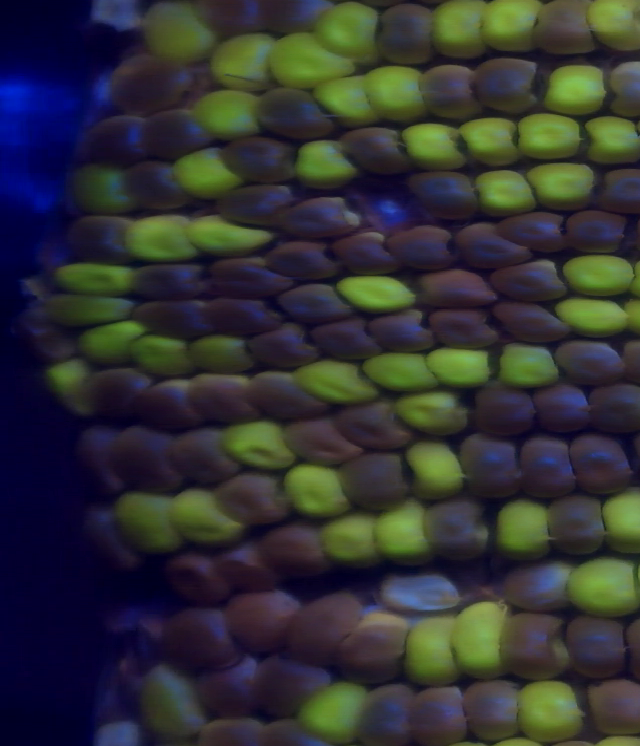fluorescent: (134, 665, 210, 740), (266, 31, 356, 94), (139, 2, 221, 70), (110, 492, 187, 561), (315, 3, 389, 68), (371, 502, 443, 567), (400, 615, 464, 687), (281, 459, 354, 522), (513, 681, 588, 741), (360, 64, 431, 127), (167, 492, 248, 547), (294, 682, 370, 739), (567, 555, 640, 614), (451, 600, 509, 674), (201, 36, 283, 86), (295, 363, 381, 409), (429, 1, 497, 59), (398, 443, 467, 500), (523, 161, 601, 211), (477, 1, 546, 56), (534, 64, 611, 113), (123, 216, 201, 264), (560, 252, 637, 300), (490, 498, 556, 554), (69, 164, 140, 216), (192, 88, 267, 137), (454, 112, 523, 165), (75, 319, 148, 368), (397, 391, 476, 436), (397, 121, 469, 170), (227, 425, 302, 472), (321, 510, 385, 565), (310, 75, 379, 126), (182, 215, 277, 252), (338, 272, 423, 313), (557, 295, 634, 340), (512, 110, 585, 157), (359, 351, 442, 392), (494, 342, 563, 391), (473, 169, 541, 218), (578, 112, 640, 165), (575, 1, 640, 50), (172, 148, 242, 193), (42, 358, 99, 413), (50, 258, 140, 292), (295, 140, 359, 187), (425, 345, 490, 391), (38, 292, 139, 320), (133, 336, 197, 380), (189, 335, 258, 374), (599, 491, 640, 554)
nonfluorescent: (102, 54, 198, 115), (250, 659, 335, 726), (277, 589, 356, 659), (502, 610, 573, 686), (417, 495, 491, 566), (369, 1, 444, 70), (541, 492, 613, 563), (516, 430, 584, 505), (335, 613, 411, 680), (222, 588, 298, 652), (469, 50, 546, 112), (152, 612, 242, 665), (259, 87, 339, 146), (333, 453, 414, 511), (455, 432, 528, 495), (565, 434, 635, 499), (528, 1, 603, 61), (562, 612, 628, 680), (193, 657, 268, 714), (335, 401, 417, 452), (80, 369, 152, 427), (111, 429, 183, 487), (449, 225, 540, 270), (84, 505, 147, 569), (254, 527, 332, 578), (461, 676, 526, 737), (203, 253, 293, 297), (485, 257, 569, 304), (335, 129, 412, 180), (222, 134, 296, 187), (418, 66, 489, 121), (129, 297, 219, 340), (496, 561, 580, 607), (212, 186, 306, 227), (72, 432, 134, 494), (162, 554, 237, 605), (76, 110, 152, 160), (188, 368, 260, 420), (210, 478, 291, 524), (66, 215, 139, 266), (131, 160, 199, 214), (355, 687, 417, 746), (490, 300, 573, 344), (493, 215, 570, 262), (175, 430, 243, 483), (406, 169, 482, 216), (247, 373, 330, 416), (475, 383, 538, 439), (309, 317, 389, 361), (427, 304, 505, 349), (245, 326, 324, 370), (283, 420, 362, 464), (265, 241, 348, 282), (132, 383, 209, 427), (408, 688, 473, 740), (414, 268, 497, 308), (278, 196, 363, 235), (558, 338, 630, 384), (280, 279, 356, 322), (198, 295, 281, 334), (213, 544, 281, 591), (192, 1, 274, 39), (144, 112, 217, 154), (363, 311, 439, 351), (385, 227, 458, 268), (561, 211, 629, 255), (584, 386, 640, 439), (260, 1, 340, 37), (586, 677, 640, 730), (532, 389, 594, 435), (330, 232, 399, 268), (132, 266, 209, 297), (192, 716, 268, 746), (605, 60, 640, 119), (603, 168, 640, 212)
